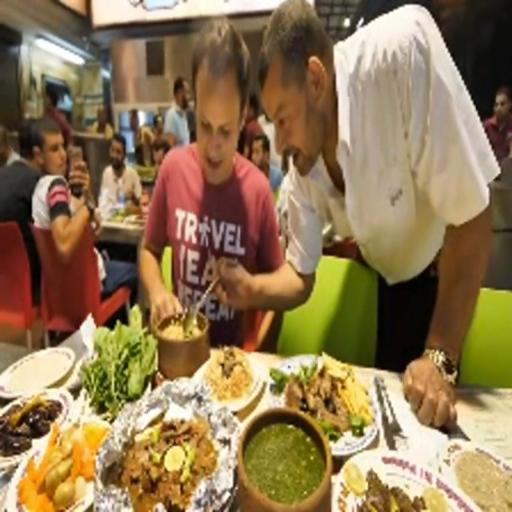nao-violencia: (128, 3, 504, 406)
